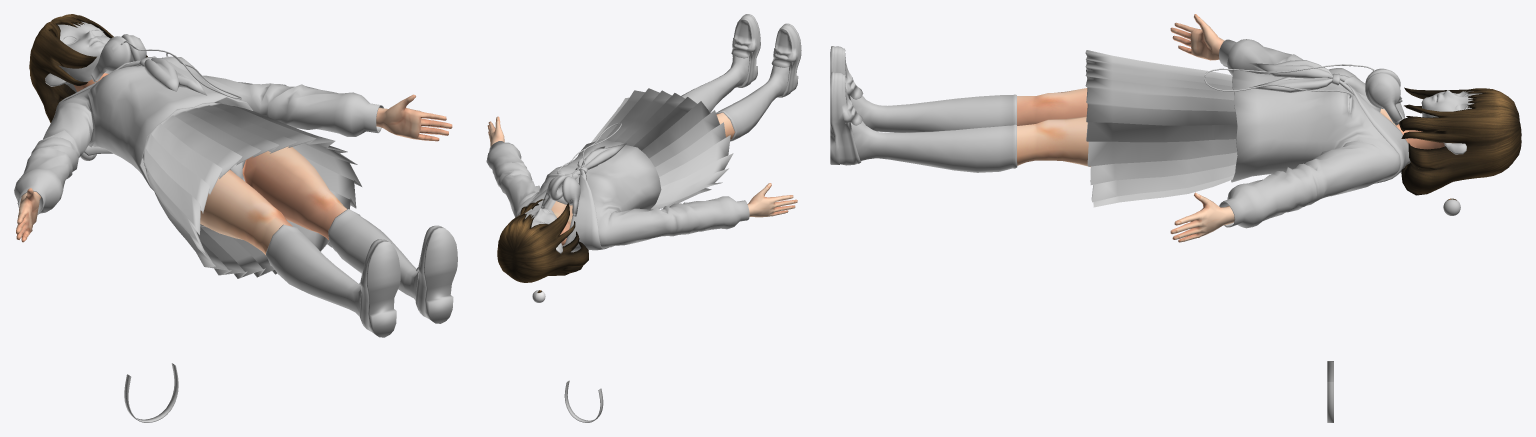
Rendered from pina.dae.
3 renders of one model, left to right at view 1: azimuth 30°, elevation 25°; view 2: azimuth 150°, elevation 25°; view 3: azimuth 270°, elevation 25°, orthographic. The views are drawn at different scales.
Visible parts, largest first — view 1: pina_shirt, pina_skirt, pina_body, pina_stockings_R, pina_hair, pina_shoes_L, pina_shoes_R, pina_stockings_L, pina_head, pina_scarf, pina_earphone_R, pina_headset (+1 smaller); view 2: pina_shirt, pina_skirt, pina_hair, pina_stockings_R, pina_body, pina_collar, pina_stockings_L, pina_shoes_L, pina_shoes_R, pina_scarf, pina_earphone_R, pina_head (+2 smaller); view 3: pina_skirt, pina_shirt, pina_hair, pina_body, pina_stockings_L, pina_stockings_R, pina_shoes_L, pina_scarf, pina_collar, pina_earphone_L, pina_head, pina_shoes_R (+1 smaller).
Part boxes in pixels (x1,y1,x2,y2): pina_shirt: (14,56,383,214); pina_skirt: (142,102,361,278); pina_body: (16,73,452,254); pina_stockings_R: (266,224,361,316); pina_hair: (29,14,147,122); pina_shoes_L: (415,225,457,323); pina_shoes_R: (359,239,400,337); pina_stockings_L: (328,209,418,300); pina_head: (45,21,110,92); pina_scarf: (120,57,206,95); pina_earphone_R: (91,36,130,82); pina_headset: (124,363,178,422); pina_shirt: (486,139,749,247); pina_skirt: (591,88,733,209); pina_hair: (497,199,588,282); pina_stockings_R: (716,65,789,141); pina_body: (487,112,797,245); pina_collar: (517,173,609,252); pina_stockings_L: (681,56,749,112); pina_shoes_L: (731,14,760,87); pina_shoes_R: (771,23,801,97); pina_scarf: (571,143,626,180); pina_earphone_R: (562,176,580,216); pina_head: (525,208,562,253); pina_skirt: (1085,50,1237,207); pina_shirt: (1219,39,1400,228); pina_hair: (1399,87,1521,195); pina_body: (1017,14,1444,242); pina_stockings_L: (850,121,1017,172); pina_stockings_R: (850,94,1016,132); pina_shoes_L: (830,72,863,165); pina_scarf: (1249,60,1354,95); pina_collar: (1344,76,1410,183); pina_earphone_L: (1365,72,1401,125); pina_head: (1421,90,1481,154); pina_shoes_R: (830,46,863,135).
Size of the model in its own units: 110 by 157 by 90.28.
